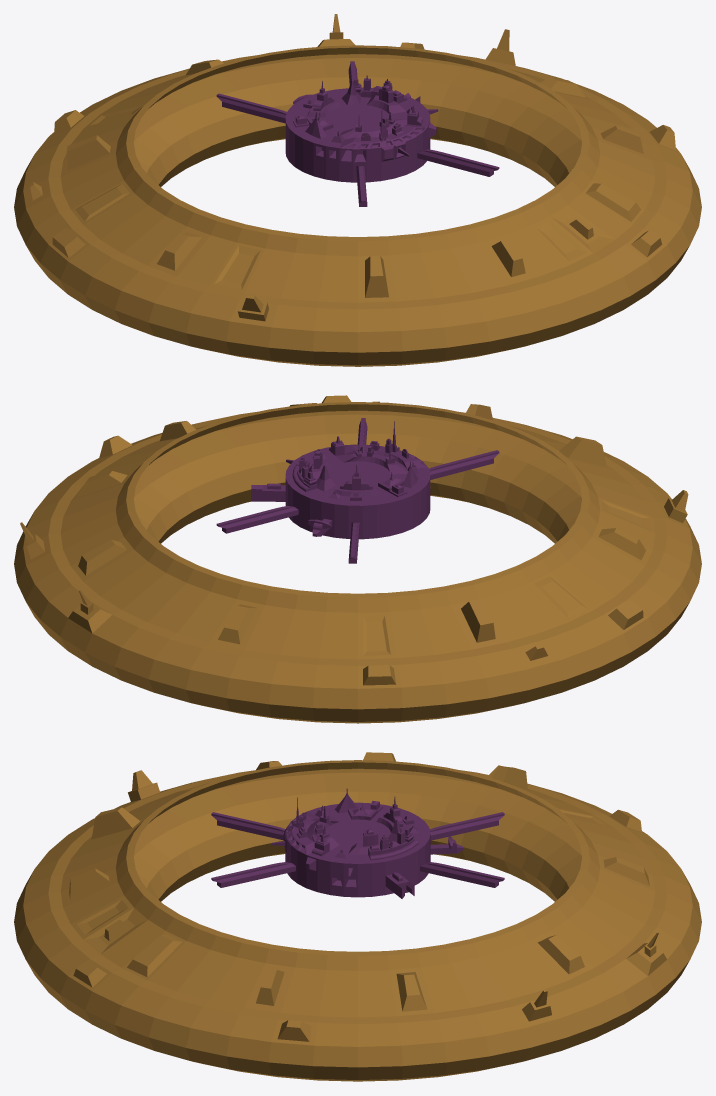
The model's file is StantionDecorationA.fbx.
3 views of the same model, one above another, from view 1: azimuth 30°, elevation 25°; view 2: azimuth 150°, elevation 25°; view 3: azimuth 270°, elevation 25° (orthographic).
Parts seen in each view (by area): view 1: Torus, Cylinder; view 2: Torus, Cylinder; view 3: Torus, Cylinder.
Boxes of the visible parts, bbox=[...] form: Torus: bbox=[14, 14, 701, 366]; Cylinder: bbox=[216, 61, 499, 206]; Torus: bbox=[14, 395, 701, 723]; Cylinder: bbox=[216, 418, 499, 563]; Torus: bbox=[14, 752, 701, 1081]; Cylinder: bbox=[211, 788, 504, 898].
Size of the model in its own units: 947 by 236 by 947.
